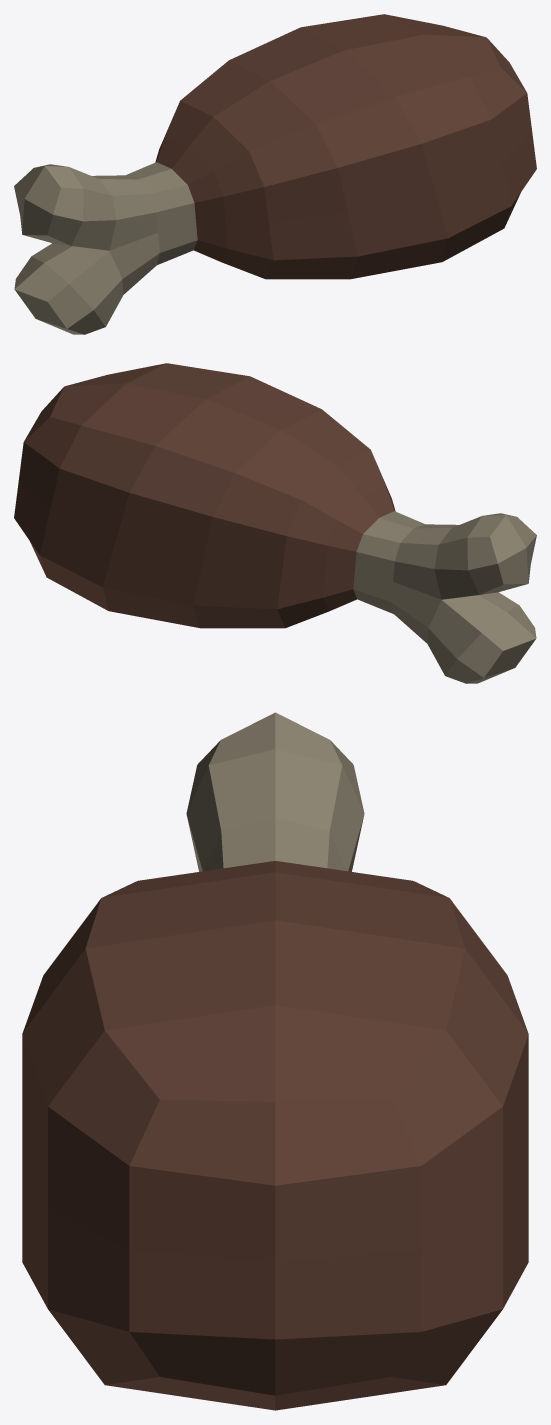
File: food-ChickenLeg.glb
The picture shows the model from 3 angles, top to bottom: view 1: azimuth 30°, elevation 25°; view 2: azimuth 150°, elevation 25°; view 3: azimuth 270°, elevation 25°; orthographic projection. The views are drawn at different scales.
Parts seen in each view (by area): view 1: ChickenLeg; view 2: ChickenLeg; view 3: ChickenLeg.
Boxes of the visible parts, box(x1,y1,x2,y2) form: ChickenLeg: box(14, 14, 536, 334); ChickenLeg: box(14, 363, 536, 683); ChickenLeg: box(22, 712, 528, 1410).
Size of the model in its own units: 1.4 by 0.5815 by 0.6119.
